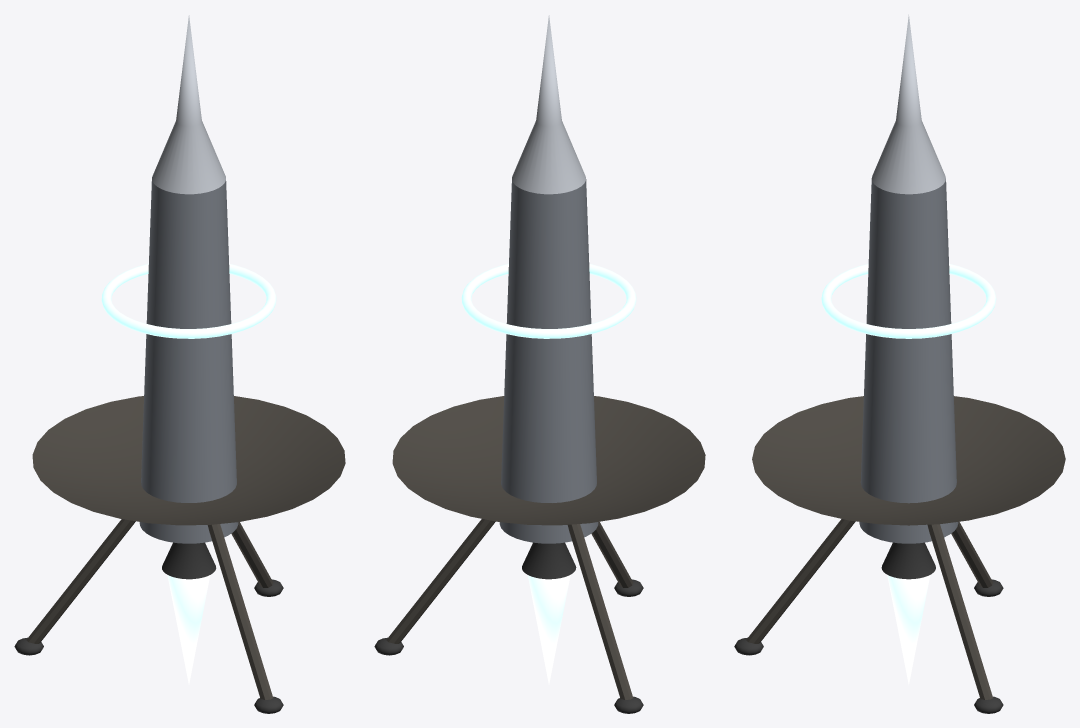
Rendered from Rocket_23_TripodDish.fbx.
3 renders of one model, left to right at view 1: azimuth 30°, elevation 25°; view 2: azimuth 150°, elevation 25°; view 3: azimuth 270°, elevation 25°, orthographic.
Visible parts, largest first — view 1: R23_Body, R23_Dish, R23_Nose, R23_Halo_1, R23_Leg_3, R23_Flame_1, R23_Leg_2, R23_Nozzle_1, R23_Leg_1; view 2: R23_Body, R23_Dish, R23_Nose, R23_Halo_1, R23_Leg_2, R23_Flame_1, R23_Leg_1, R23_Nozzle_1, R23_Leg_3; view 3: R23_Body, R23_Dish, R23_Nose, R23_Halo_1, R23_Leg_1, R23_Flame_1, R23_Leg_3, R23_Nozzle_1, R23_Leg_2.
Part boxes in pixels (box(x1,y1,x2,y2)): R23_Body: box(139, 180, 238, 543); R23_Dish: box(32, 396, 345, 525); R23_Nose: box(152, 15, 225, 194); R23_Halo_1: box(101, 263, 276, 338); R23_Leg_3: box(207, 524, 273, 699); R23_Flame_1: box(167, 575, 210, 684); R23_Leg_2: box(26, 519, 135, 643); R23_Nozzle_1: box(162, 542, 216, 579); R23_Leg_1: box(231, 522, 273, 587); R23_Body: box(499, 179, 598, 543); R23_Dish: box(392, 396, 705, 525); R23_Nose: box(512, 15, 585, 194); R23_Halo_1: box(461, 263, 636, 338); R23_Leg_2: box(567, 524, 633, 699); R23_Flame_1: box(527, 575, 570, 684); R23_Leg_1: box(386, 519, 495, 643); R23_Nozzle_1: box(522, 542, 576, 579); R23_Leg_3: box(591, 521, 633, 587); R23_Body: box(859, 179, 958, 543); R23_Dish: box(752, 396, 1065, 525); R23_Nose: box(871, 14, 945, 194); R23_Halo_1: box(821, 263, 996, 338); R23_Leg_1: box(927, 524, 992, 699); R23_Flame_1: box(887, 575, 930, 684); R23_Leg_3: box(746, 519, 855, 643); R23_Nozzle_1: box(881, 542, 935, 579); R23_Leg_2: box(951, 521, 992, 587).
Size of the model in its own units: 3.8 by 8.98 by 4.01.
